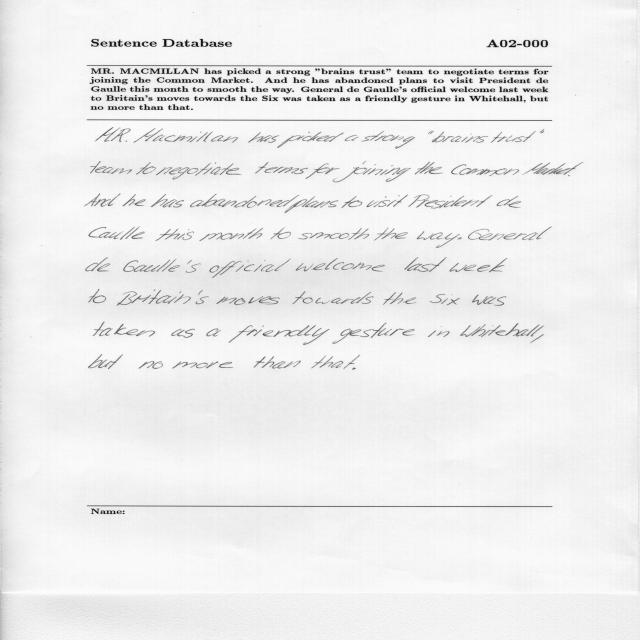word: (229, 325, 330, 345), (333, 323, 415, 344), (209, 258, 291, 278), (333, 162, 411, 183), (134, 128, 238, 143), (190, 194, 299, 208), (116, 290, 209, 306), (156, 163, 241, 180), (296, 258, 385, 272), (409, 195, 493, 209), (468, 227, 552, 241), (460, 323, 544, 337), (123, 259, 201, 273), (277, 132, 344, 148), (292, 291, 374, 304), (362, 131, 415, 149), (93, 322, 155, 337), (285, 196, 339, 213), (298, 228, 369, 240), (200, 228, 263, 241), (451, 164, 519, 176), (450, 258, 508, 272), (522, 162, 583, 175), (89, 227, 145, 240), (417, 231, 459, 248), (311, 355, 360, 369), (255, 162, 308, 174), (405, 257, 447, 272), (432, 132, 488, 143), (254, 356, 301, 369), (216, 296, 280, 305), (306, 163, 340, 179), (491, 131, 536, 143), (91, 161, 132, 174), (96, 127, 131, 142), (156, 228, 194, 241), (367, 195, 408, 207), (88, 355, 123, 369), (374, 227, 408, 241), (86, 194, 121, 207), (383, 292, 417, 305), (151, 194, 184, 207), (172, 362, 233, 369), (472, 295, 506, 306), (248, 132, 279, 143), (415, 162, 443, 174), (86, 258, 110, 272), (430, 294, 460, 305), (497, 196, 522, 208), (123, 195, 146, 207), (136, 162, 156, 175), (342, 196, 362, 208), (271, 228, 291, 240), (89, 289, 106, 303), (428, 326, 449, 337), (171, 329, 195, 338), (139, 361, 163, 369), (530, 334, 544, 343), (206, 329, 221, 337), (345, 135, 359, 141), (428, 131, 434, 134), (540, 129, 544, 133), (458, 237, 462, 239), (352, 368, 356, 370), (568, 175, 570, 176)
